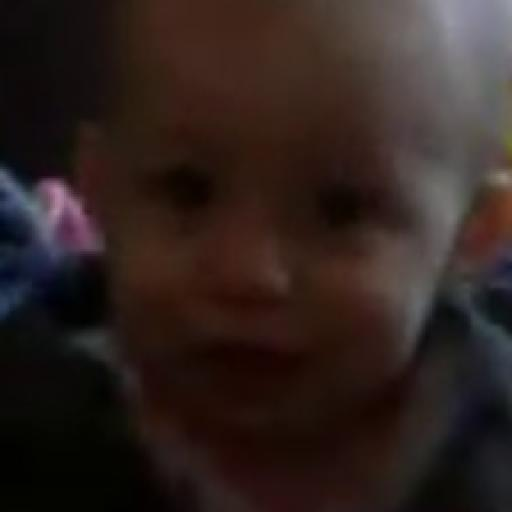Autism: (90, 47, 424, 492)
